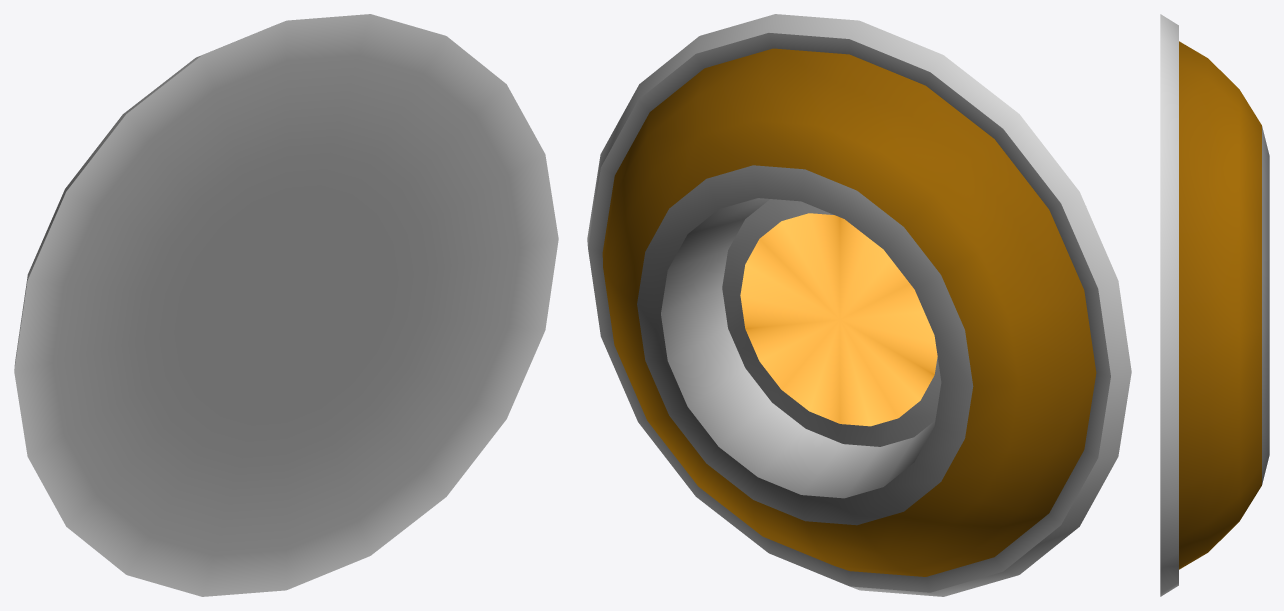
File: obj_dekotora_hubcap01.fbx
The picture shows the model from 3 angles, left to right: view 1: azimuth 30°, elevation 25°; view 2: azimuth 150°, elevation 25°; view 3: azimuth 270°, elevation 25°; orthographic projection. The views are drawn at different scales.
Parts seen in each view (by area): view 1: Cylinder.015; view 2: Cylinder.015; view 3: Cylinder.015.
Part boxes in pixels (x1,y1,x2,y2): Cylinder.015: (14, 14, 558, 596); Cylinder.015: (587, 14, 1131, 596); Cylinder.015: (1160, 14, 1269, 596).
Size of the model in its own units: 3 by 3 by 0.5567.
